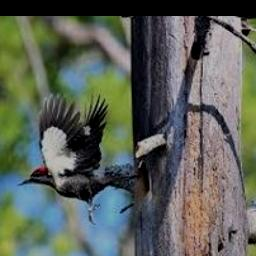Woodpecker: (16, 93, 141, 224)
